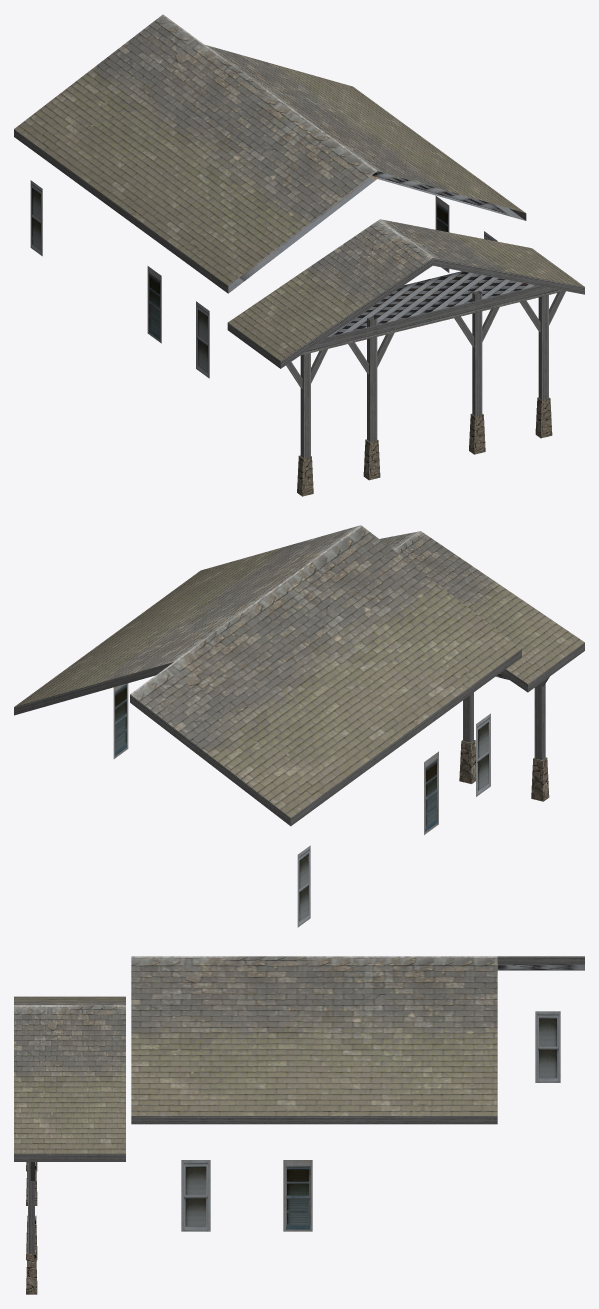
File: rural_storesmall_2_material_0_0_lev2.glb
The picture shows the model from 3 angles, top to bottom: view 1: azimuth 30°, elevation 25°; view 2: azimuth 150°, elevation 25°; view 3: azimuth 270°, elevation 25°; orthographic projection. The views are drawn at different scales.
Visible parts, largest first — view 1: rural_storesmall_2_material_0_0_lev2; view 2: rural_storesmall_2_material_0_0_lev2; view 3: rural_storesmall_2_material_0_0_lev2.
Boxes of the visible parts, bbox=[...] form: rural_storesmall_2_material_0_0_lev2: bbox=[14, 14, 584, 496]; rural_storesmall_2_material_0_0_lev2: bbox=[14, 525, 584, 927]; rural_storesmall_2_material_0_0_lev2: bbox=[14, 956, 584, 1294].
Size of the model in its own units: 9.79 by 7.95 by 15.04.
1 material, 1 textured.
